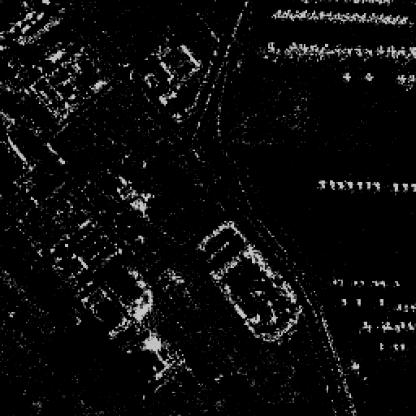airplane: (371, 278, 385, 286), (353, 276, 364, 286), (341, 72, 353, 80), (332, 276, 344, 284), (344, 180, 354, 188), (356, 178, 364, 188), (364, 178, 372, 188), (392, 180, 400, 190), (364, 72, 372, 82), (380, 320, 390, 328), (392, 324, 402, 332), (336, 180, 343, 190), (401, 180, 408, 190), (406, 320, 413, 330), (317, 179, 325, 187), (396, 73, 404, 81), (406, 75, 414, 83), (394, 278, 402, 286), (374, 178, 380, 188), (328, 179, 335, 187), (408, 182, 414, 190), (362, 318, 368, 326), (351, 361, 359, 367), (400, 320, 406, 328), (340, 297, 346, 304), (395, 302, 401, 309), (377, 342, 382, 350), (403, 302, 408, 310), (392, 343, 398, 349), (356, 297, 361, 304), (377, 297, 382, 304), (410, 304, 414, 310), (400, 343, 404, 349), (413, 320, 414, 330)
